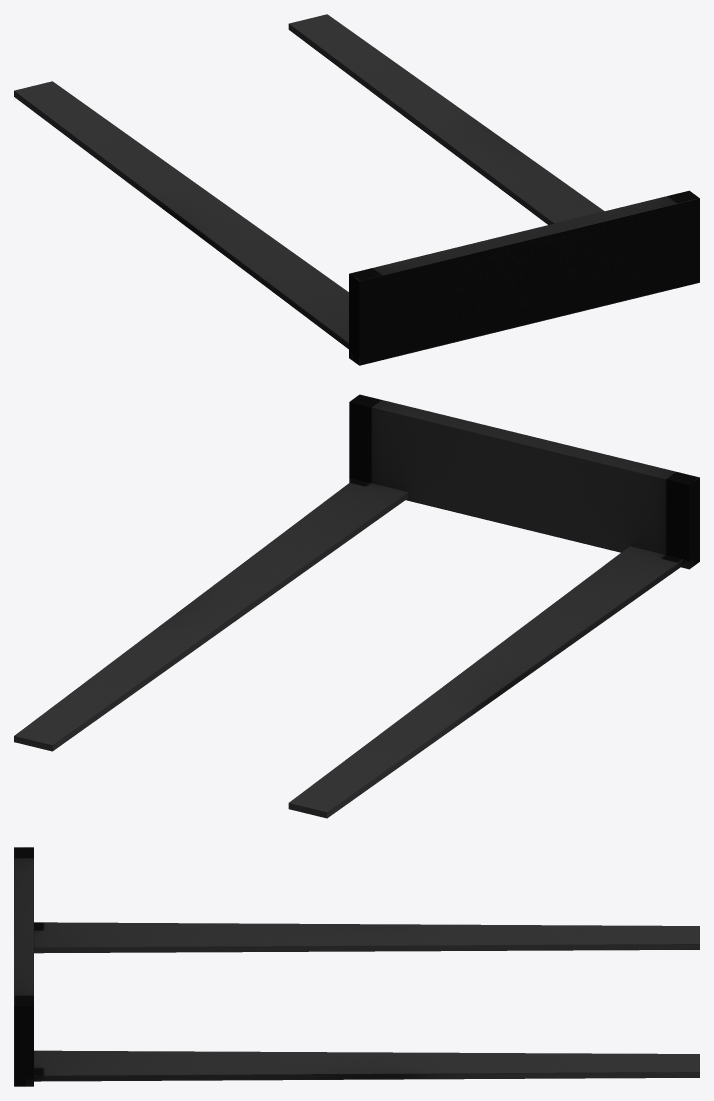
The model's file is forks.obj.
The picture shows the model from 3 angles, top to bottom: view 1: azimuth 30°, elevation 25°; view 2: azimuth 150°, elevation 25°; view 3: azimuth 270°, elevation 25°; orthographic projection. The views are drawn at different scales.
Parts seen in each view (by area): view 1: Box009; view 2: Box009; view 3: Box009.
Boxes of the visible parts, x1,y1,x2,y2 form: Box009: [14, 14, 699, 365]; Box009: [14, 394, 699, 818]; Box009: [14, 847, 699, 1086].
Bounding box in the file's own units: 2.66 × 0.6302 × 4.87.
Materials: 1 (1 with a texture image).
